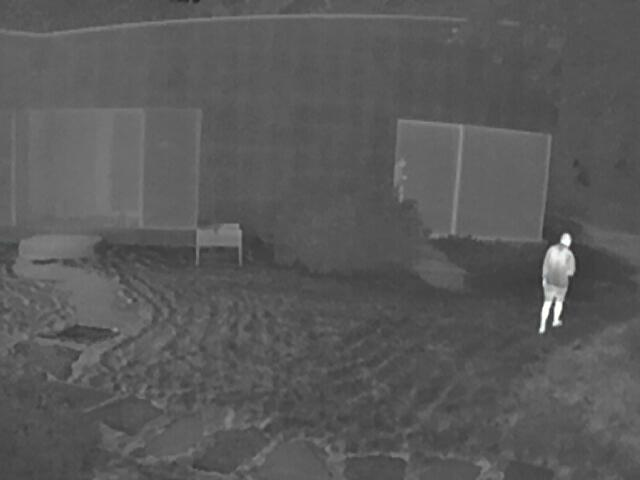person: (540, 233, 576, 336)
